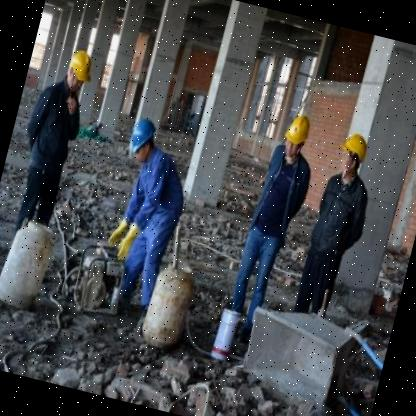capacete: (124, 116, 160, 169), (63, 46, 98, 96), (280, 112, 314, 162), (335, 130, 371, 177)
sem_colete_refletivo: (16, 74, 96, 180), (120, 141, 200, 242), (248, 140, 320, 240), (304, 170, 378, 258)
